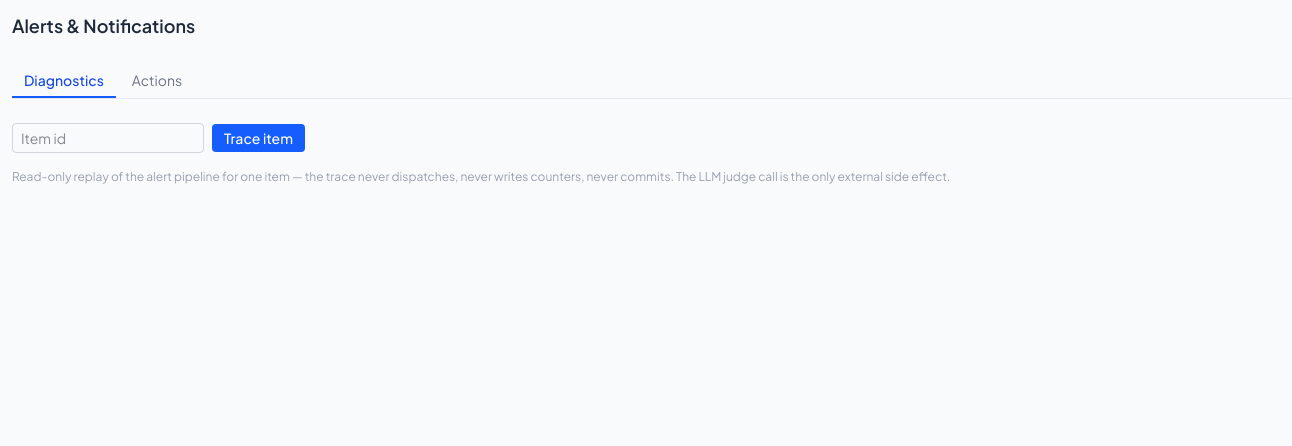
Scenario: Diagnostics sub-view › drill-down reveals the stage reason
Type "42" into the field with placeholder "Item id".
click(108, 138); type("42")  # box [12,123,204,153]
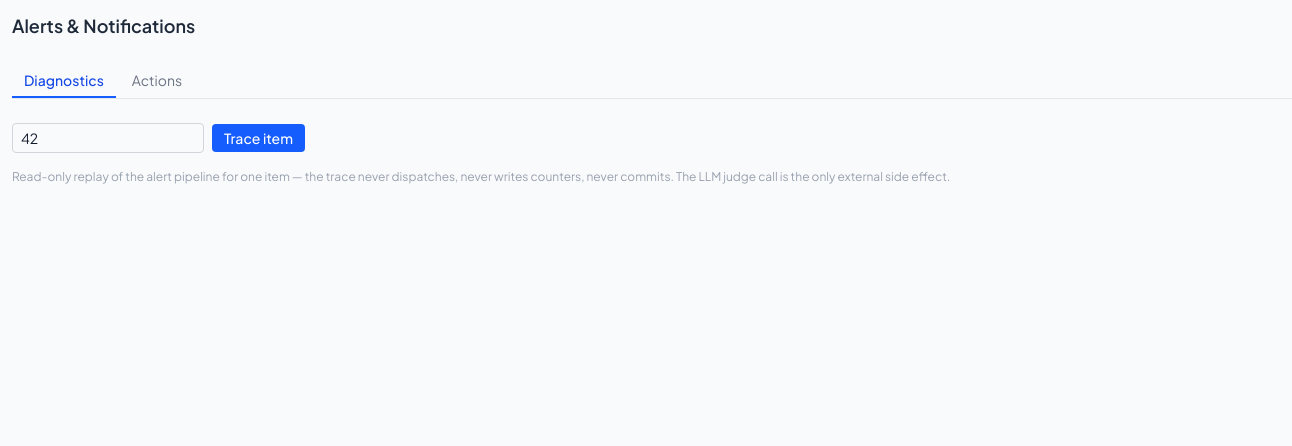
Click the button "Trace item".
click(258, 138)  # box [212,124,305,152]
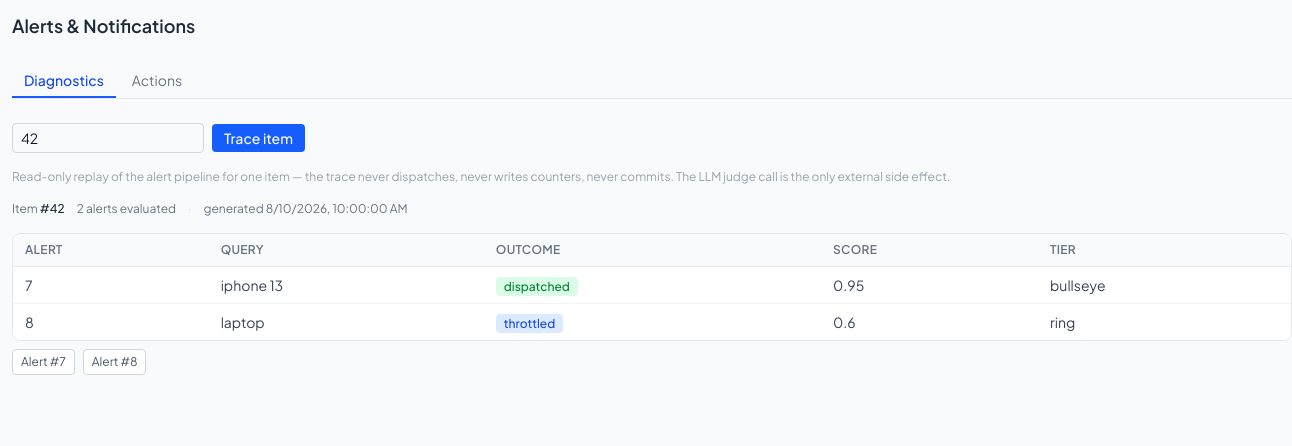
Click the button "Alert #8".
click(115, 362)  # box [83,349,146,375]
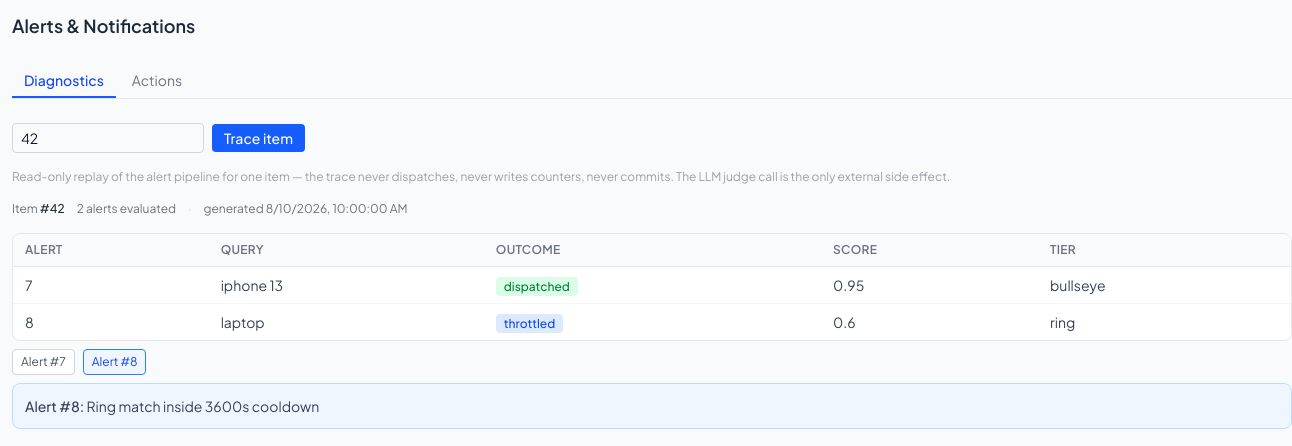
Now the element with test id "trace-drill-down" shows "cooldown", box [87,397,319,415]
